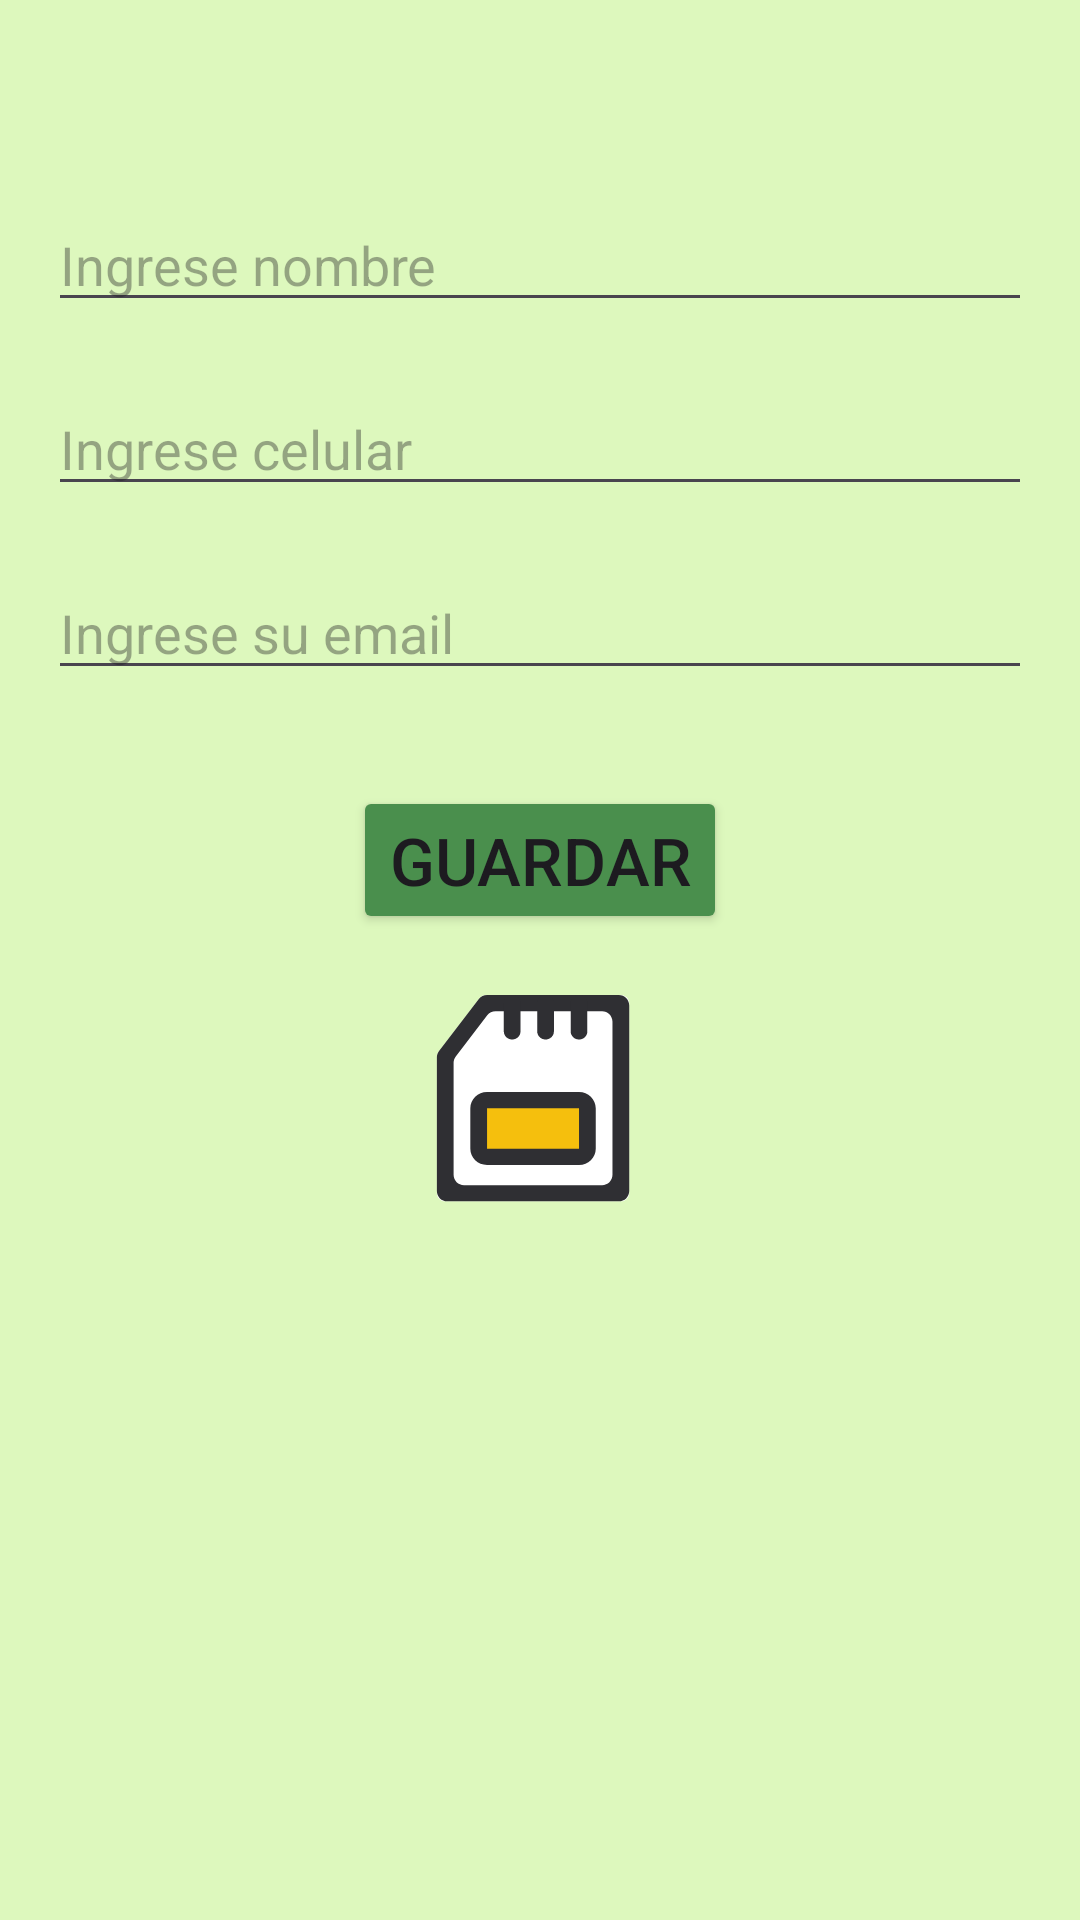

Icon click points for this 1080 × 1920 phone screenshot, format point (x, y):
chip: point (533, 1098)
